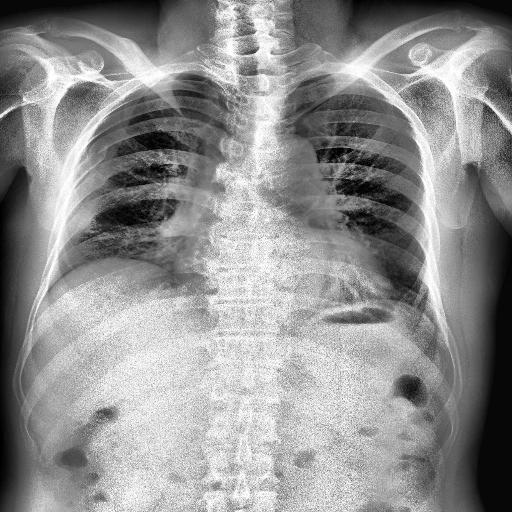0- Aortic enlargement: (254, 135, 318, 196), (272, 132, 320, 176), (272, 135, 318, 179)
3- Cardiomegaly: (172, 244, 390, 304), (170, 244, 392, 301)
